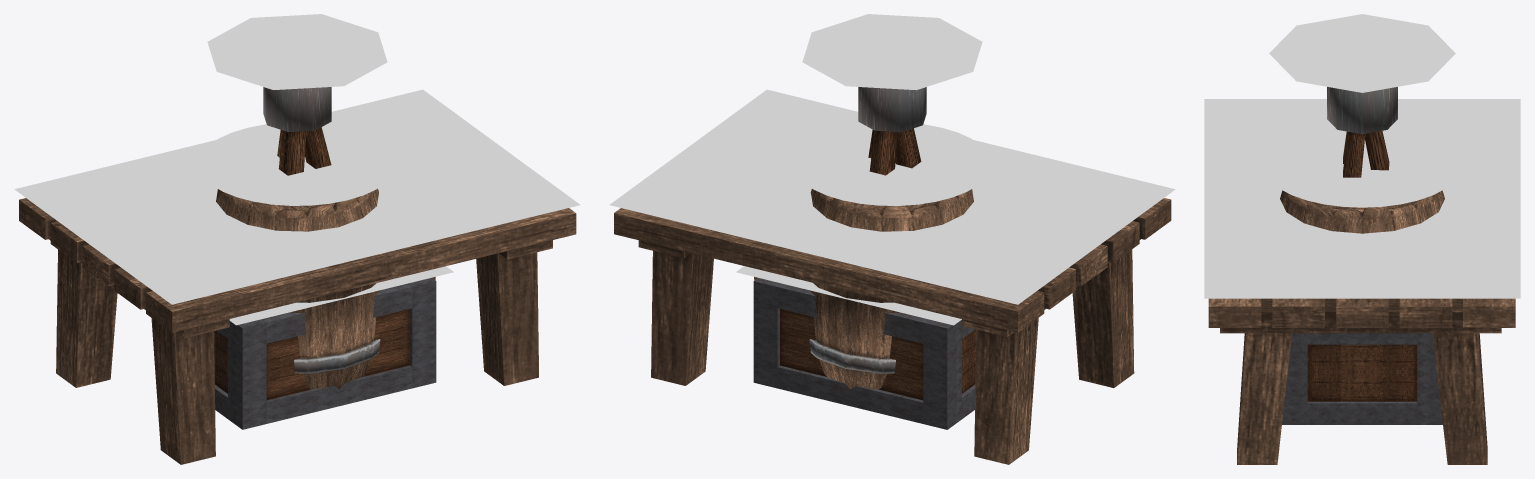
Rendered from decor.glb.
3 renders of one model, left to right at view 1: azimuth 30°, elevation 25°; view 2: azimuth 150°, elevation 25°; view 3: azimuth 270°, elevation 25°, orthographic.
Visible parts, largest first — view 1: table_col, table, crate, barrel_col, barrel, torch_col, torch, crate_col; view 2: table_col, table, crate, barrel_col, barrel, torch_col, torch, crate_col; view 3: table_col, table, crate, barrel_col, torch_col, torch, barrel.
Boxes of the visible parts, x1,y1,x2,y2 form: table_col: [14, 89, 580, 304]; table: [19, 198, 576, 464]; crate: [214, 277, 436, 429]; barrel_col: [198, 124, 396, 205]; barrel: [216, 188, 380, 389]; torch_col: [207, 14, 387, 89]; torch: [263, 87, 331, 175]; crate_col: [229, 266, 453, 325]; table_col: [609, 89, 1175, 304]; table: [614, 198, 1171, 464]; crate: [753, 278, 976, 429]; barrel_col: [793, 124, 991, 205]; barrel: [809, 189, 973, 389]; torch_col: [802, 14, 982, 90]; torch: [858, 87, 926, 175]; crate_col: [736, 266, 961, 325]; table_col: [1204, 99, 1520, 298]; table: [1208, 298, 1515, 464]; crate: [1282, 333, 1442, 424]; barrel_col: [1263, 125, 1461, 207]; torch_col: [1269, 14, 1455, 92]; torch: [1327, 87, 1397, 177]; barrel: [1280, 190, 1444, 233].
Size of the model in its own units: 2.02 by 1.53 by 1.35.
Materials: 4 (4 with a texture image).
